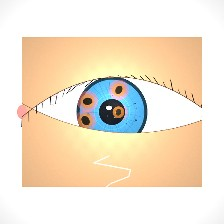foreign_body_visible: (97, 72, 141, 107)
